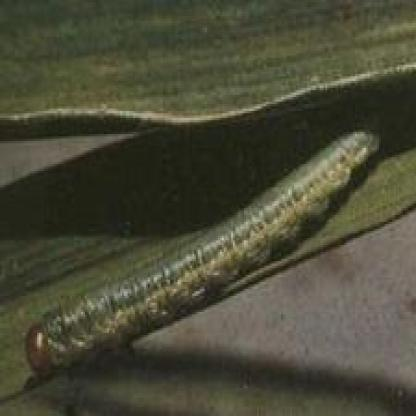sawfly: (22, 117, 386, 381)
